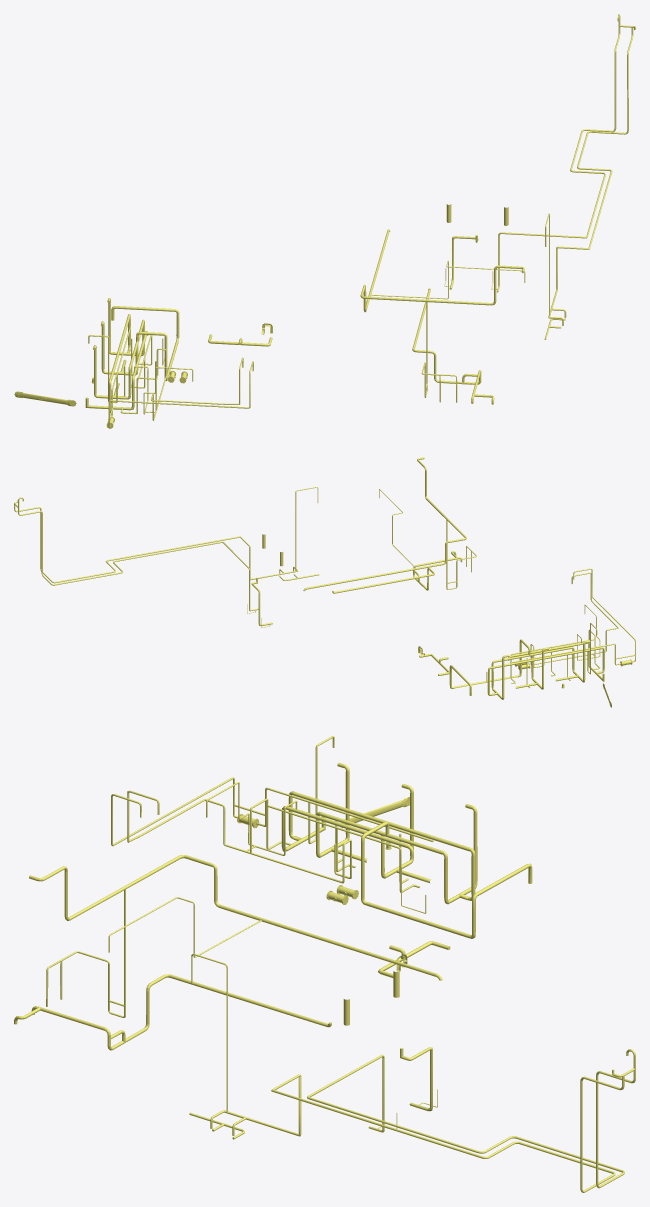
Rendered from NoLod_23.glb.
3 renders of one model, top to bottom at view 1: azimuth 30°, elevation 25°; view 2: azimuth 150°, elevation 25°; view 3: azimuth 270°, elevation 25°, orthographic. The views are drawn at different scales.
Parts seen in each view (by area): view 1: rtc; view 2: rtc; view 3: rtc.
Part boxes in pixels (x1,y1,x2,y2): rtc: (14,14,635,428); rtc: (14,457,635,707); rtc: (14,736,635,1192).
Size of the model in its own units: 71.72 by 16.32 by 38.97.
